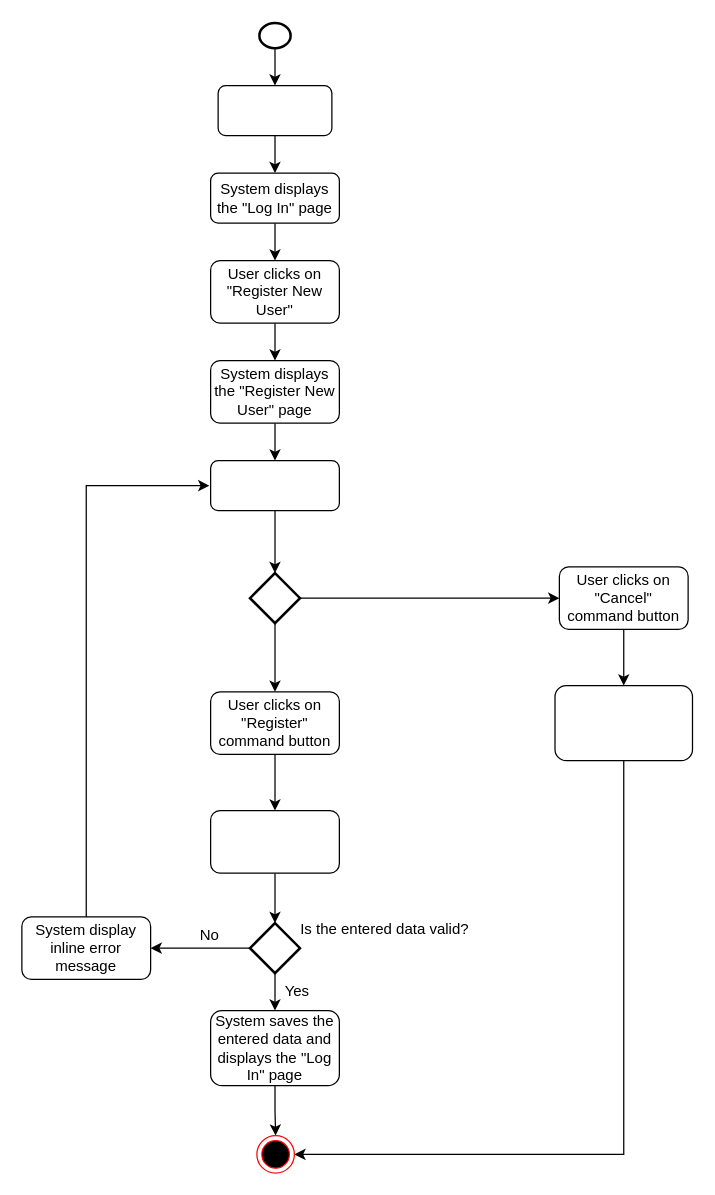
Image size: 715x1195. Some labels were removed from this diagram. Each missing label, with the centre of its shape:
System discards all the entered data and displays the "Log In" page: the point at 623,722
System validates entered data: the point at 274,841
User clicks on "Apply Online": the point at 274,110
User enters the registration data: the point at 274,485
